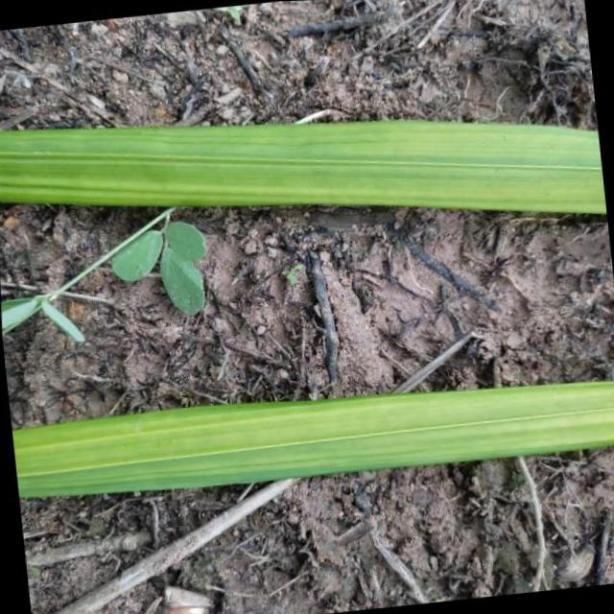nitrogen: (0, 375, 614, 504), (0, 117, 614, 216)
